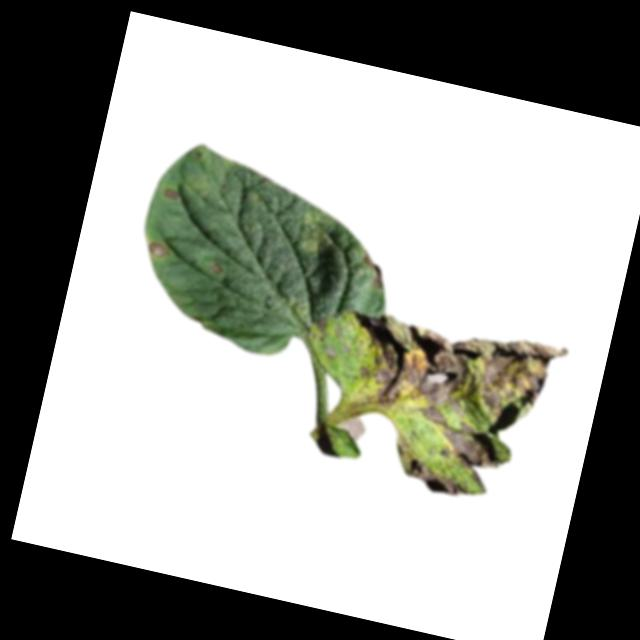Early_blight: (325, 299, 569, 494), (386, 435, 479, 504), (356, 247, 390, 288), (143, 236, 171, 260), (312, 314, 331, 339), (161, 186, 179, 200)
